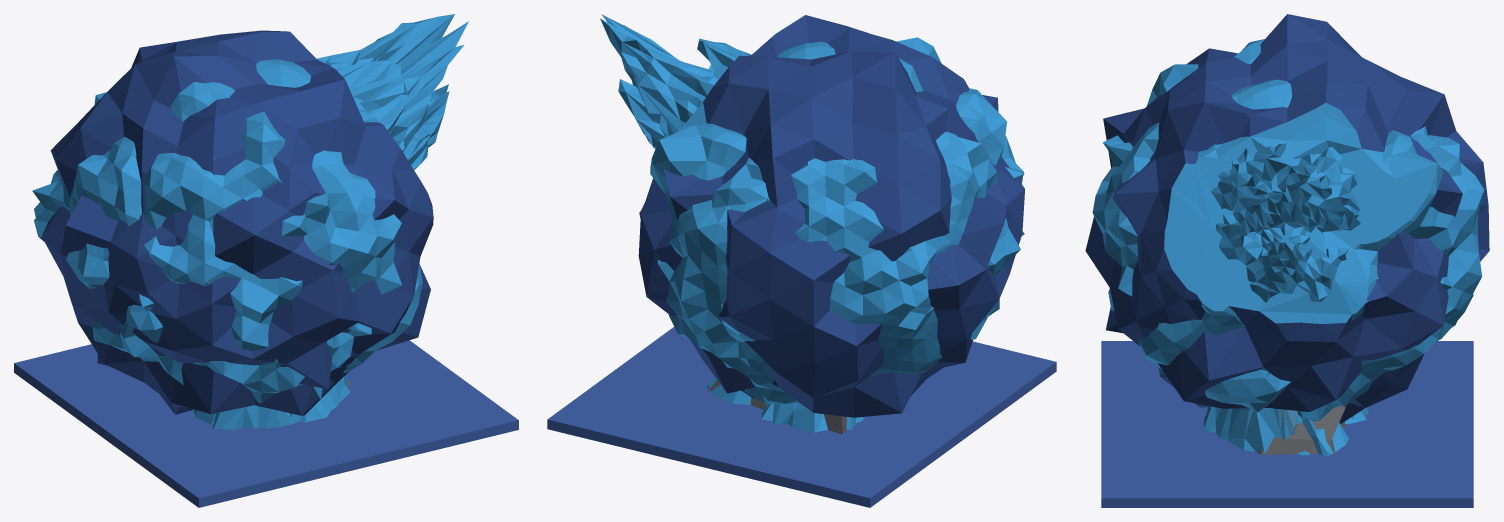
The model's file is alien_worlds.glb.
The picture shows the model from 3 angles, left to right: view 1: azimuth 30°, elevation 25°; view 2: azimuth 150°, elevation 25°; view 3: azimuth 270°, elevation 25°; orthographic projection.
Parts seen in each view (by area): view 1: SP_Planet, SP_Ground01, SP_Mountain01; view 2: SP_Planet, SP_Ground01, SP_Mountain01; view 3: SP_Planet, SP_Ground01, SP_Mountain01, SP_Mountain02.
Part boxes in pixels (bbox=[...]): SP_Planet: bbox=[32, 14, 468, 415]; SP_Ground01: bbox=[14, 340, 518, 507]; SP_Mountain01: bbox=[192, 374, 350, 430]; SP_Planet: bbox=[600, 14, 1024, 417]; SP_Ground01: bbox=[547, 327, 1056, 507]; SP_Mountain01: bbox=[707, 377, 864, 432]; SP_Planet: bbox=[1085, 14, 1489, 423]; SP_Ground01: bbox=[1101, 341, 1473, 507]; SP_Mountain01: bbox=[1204, 406, 1368, 455]; SP_Mountain02: bbox=[1257, 405, 1345, 454].
Size of the model in its own units: 12.55 by 10.96 by 10.85.
1 material, 1 textured.
